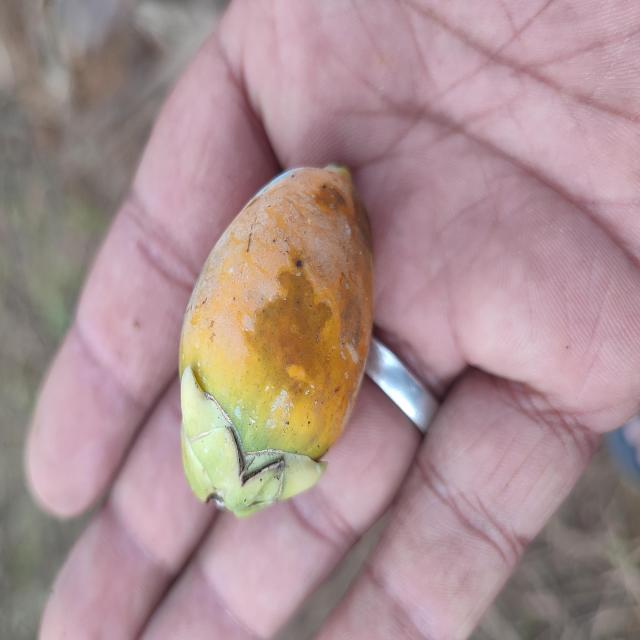good: (176, 165, 374, 521)
